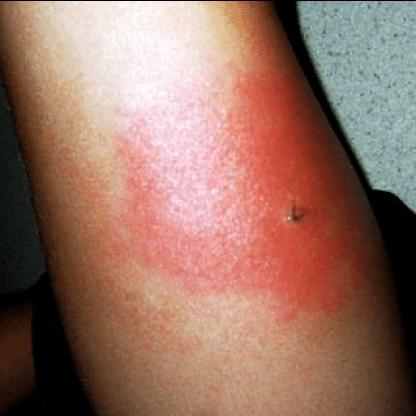Wasp: (116, 84, 359, 304)
